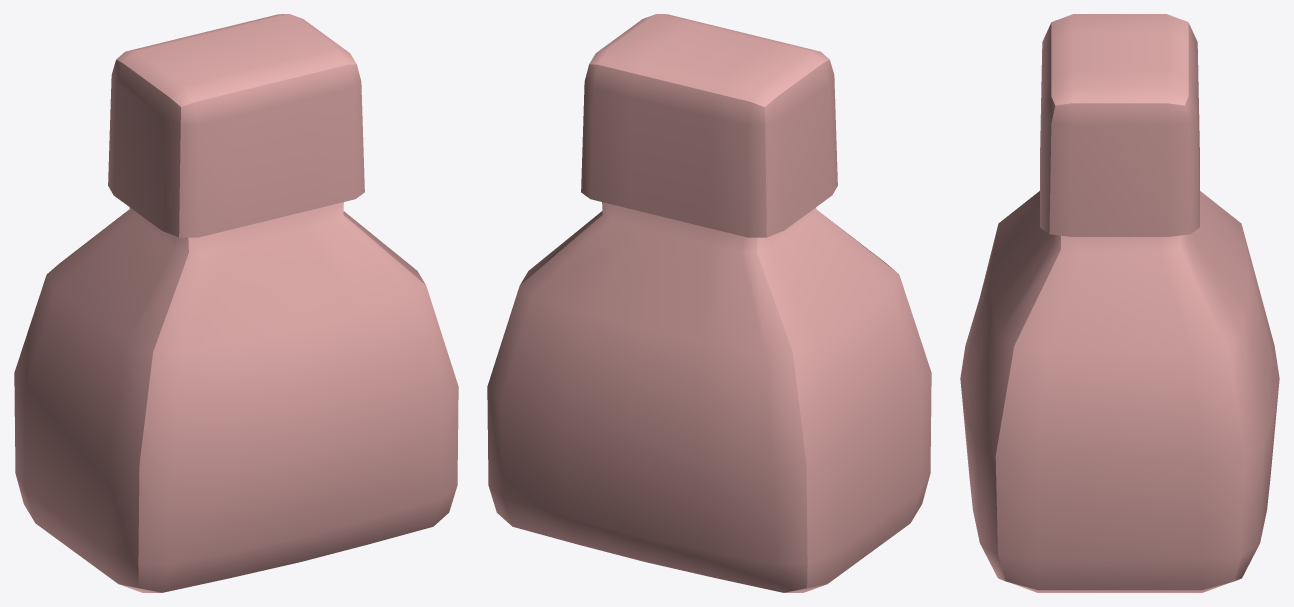
Rendered from medicine3_forPaint.fbx.
The picture shows the model from 3 angles, left to right: view 1: azimuth 30°, elevation 25°; view 2: azimuth 150°, elevation 25°; view 3: azimuth 270°, elevation 25°; orthographic projection.
Parts seen in each view (by area): view 1: polySurface14; view 2: polySurface14; view 3: polySurface14.
Boxes of the visible parts, x1,y1,x2,y2 form: polySurface14: [14, 14, 458, 592]; polySurface14: [487, 14, 931, 592]; polySurface14: [960, 14, 1279, 592].
Bounding box in the file's own units: 0.1536 × 0.2076 × 0.1262.
